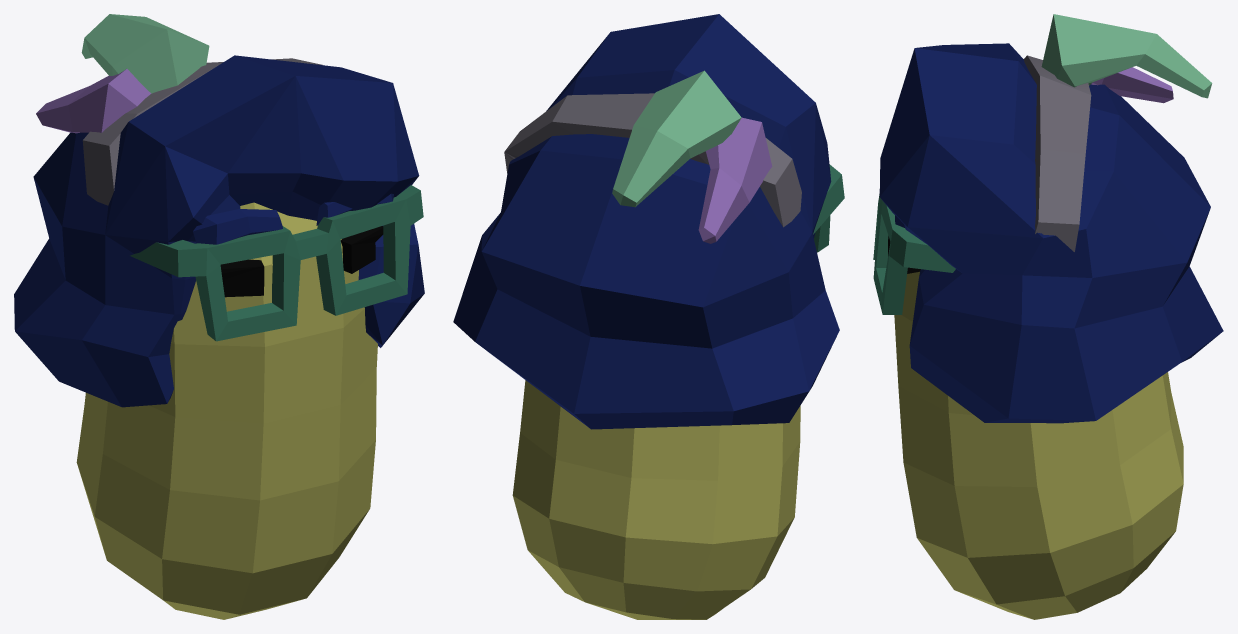
Rendered from ladyCap_LowPOly.fbx.
3 renders of one model, left to right at view 1: azimuth 30°, elevation 25°; view 2: azimuth 150°, elevation 25°; view 3: azimuth 270°, elevation 25°, orthographic. The views are drawn at different scales.
Visible parts, largest first — view 1: ladyCap; view 2: ladyCap; view 3: ladyCap.
Part boxes in pixels (x1,y1,x2,y2): ladyCap: [14, 14, 424, 619]; ladyCap: [453, 14, 844, 619]; ladyCap: [873, 14, 1223, 619].
Bounding box in the file's own units: 119 × 178 × 101.
